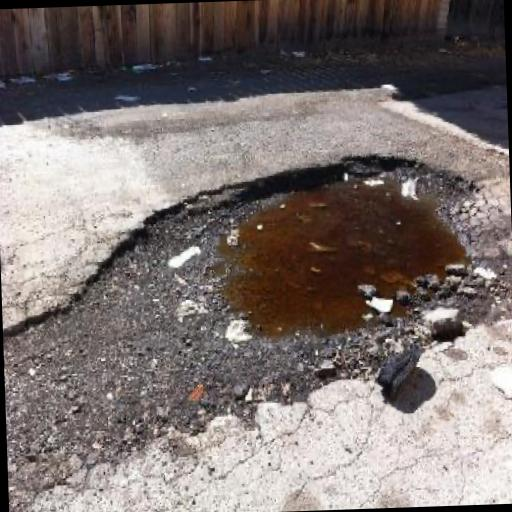pothole: (59, 144, 502, 486)
